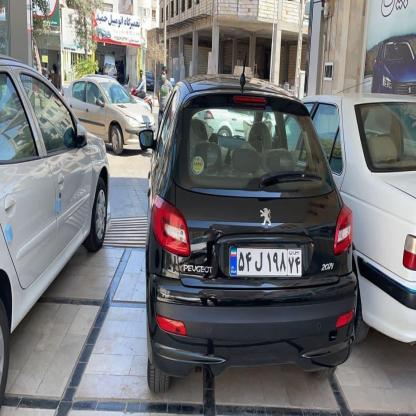Car: (146, 88, 358, 396), (273, 76, 416, 371), (0, 65, 108, 415), (49, 74, 153, 158), (182, 89, 281, 153)
